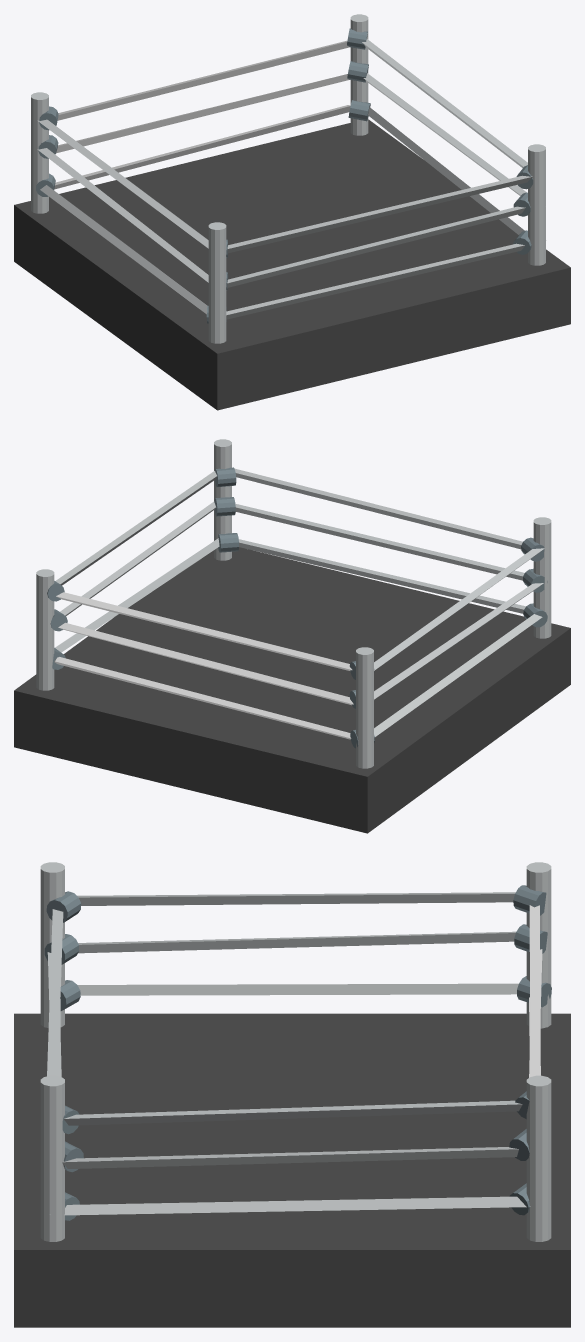
File: ring.glb
3 views of the same model, one above another, from view 1: azimuth 30°, elevation 25°; view 2: azimuth 150°, elevation 25°; view 3: azimuth 270°, elevation 25° (orthographic). The views are drawn at different scales.
Parts seen in each view (by area): view 1: ring; view 2: ring; view 3: ring.
Part boxes in pixels (x1,y1,x2,y2): ring: (14,14,570,410); ring: (14,439,570,833); ring: (14,862,570,1327).
Bounding box in the file's own units: 6 × 2.76 × 5.98.
